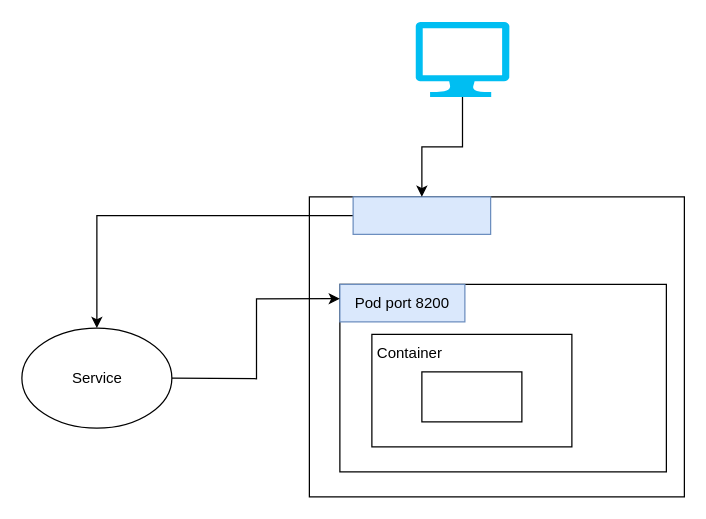
Some shapes in this 706 by 519 pixel diagram are drawn without their labels. Each missing label, with the centre of its shape:
"Image Vault" goes at point 471,396.
"Node minikube" goes at point 421,215.
